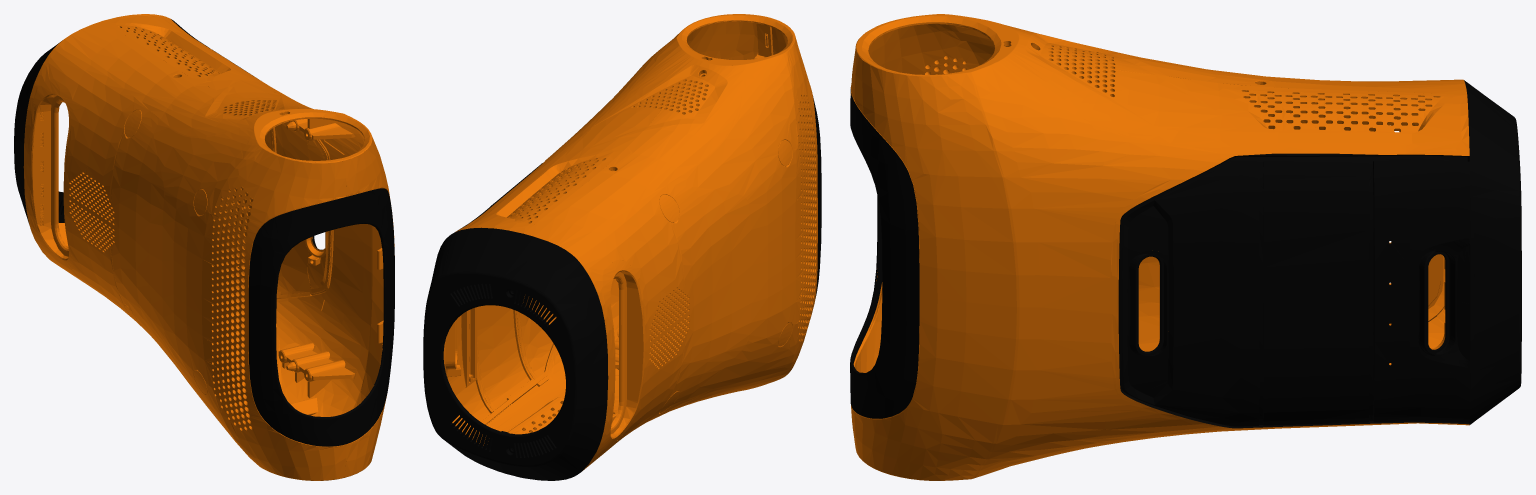
File: torso.glb
3 views of the same model, side by side, from view 1: azimuth 30°, elevation 25°; view 2: azimuth 150°, elevation 25°; view 3: azimuth 270°, elevation 25° (orthographic). The views are drawn at different scales.
Parts seen in each view (by area): view 1: torso; view 2: torso, cap3; view 3: torso.
Part boxes in pixels (x1,y1,x2,y2): torso: [14, 14, 394, 480]; torso: [423, 14, 821, 480]; cap3: [659, 194, 679, 222]; torso: [850, 14, 1521, 480].
Bounding box in the file's own units: 0.208 × 0.3525 × 0.5246.
